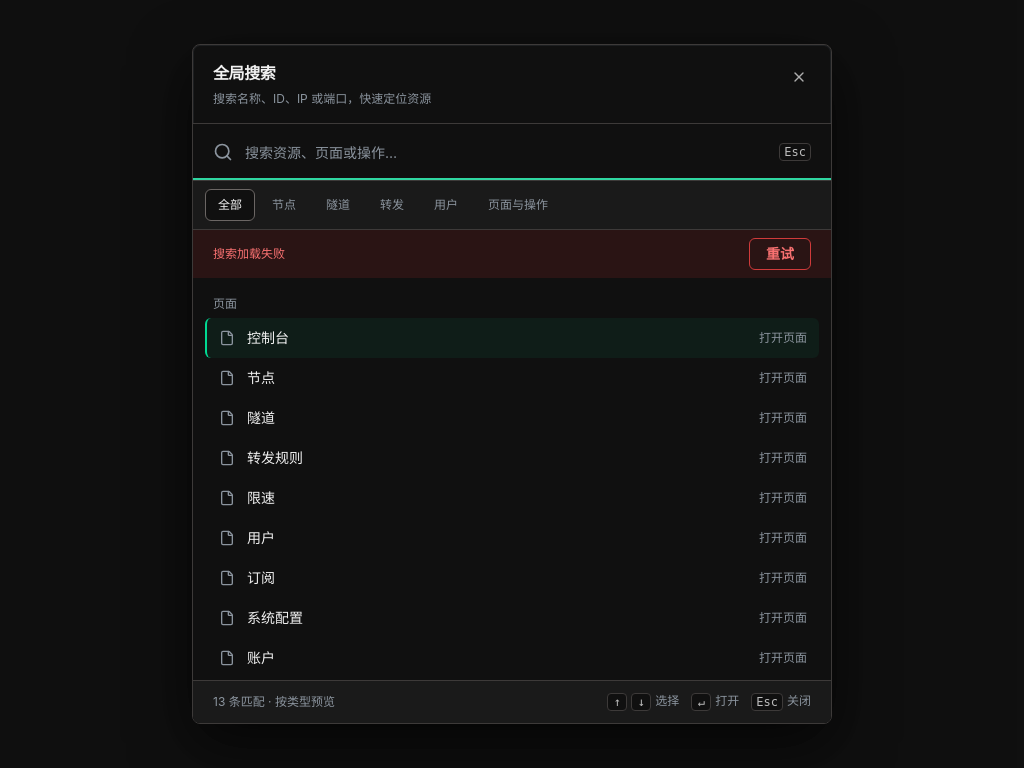
Test: 应用外壳与命令面板 › 资源请求失败可重试，已有页面操作继续可用
Expected: the message "搜索加载失败 重试" is shown, left=193, top=230, right=831, bottom=278
Click the button "重试" at (780, 254), box left=749, top=238, right=811, bottom=270
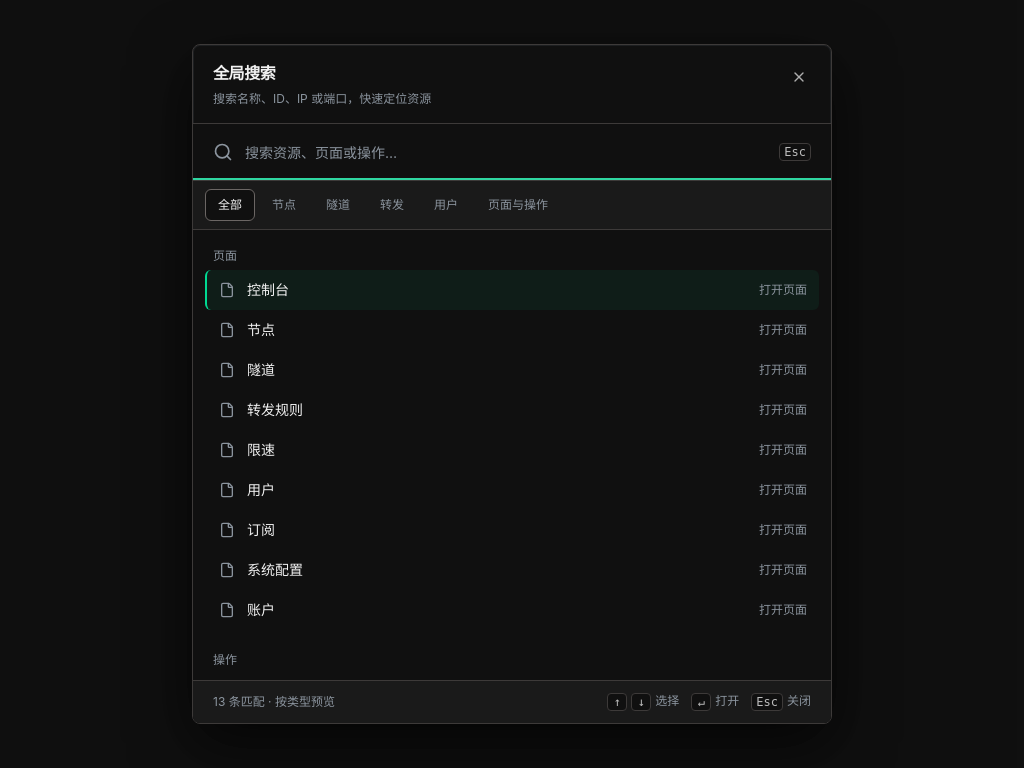
Result: the message "搜索加载失败 重试" is gone
